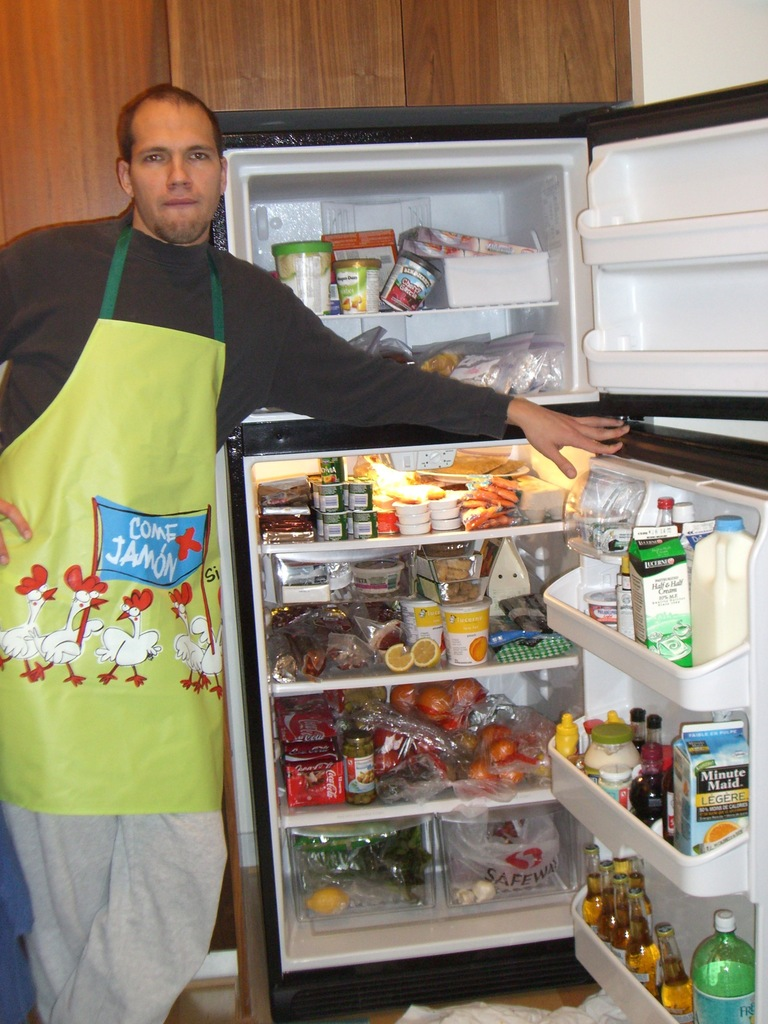refrigerator door: (592, 444, 768, 1024), (589, 125, 768, 384)
